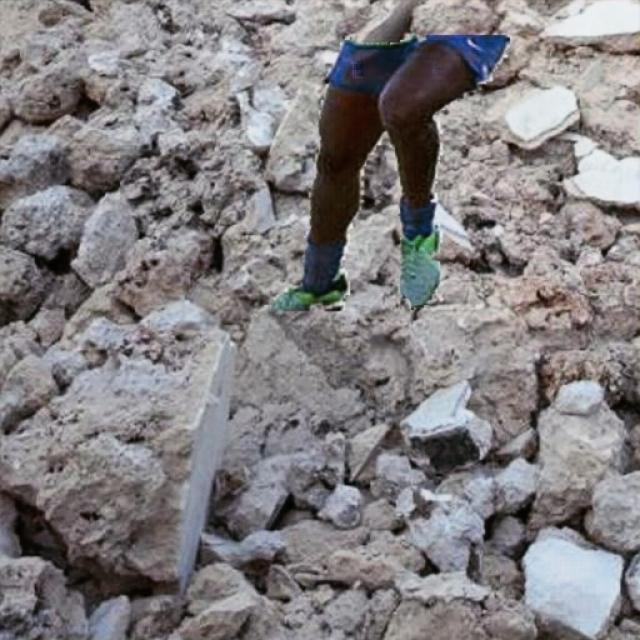Person in Rubble: (259, 35, 509, 310)
